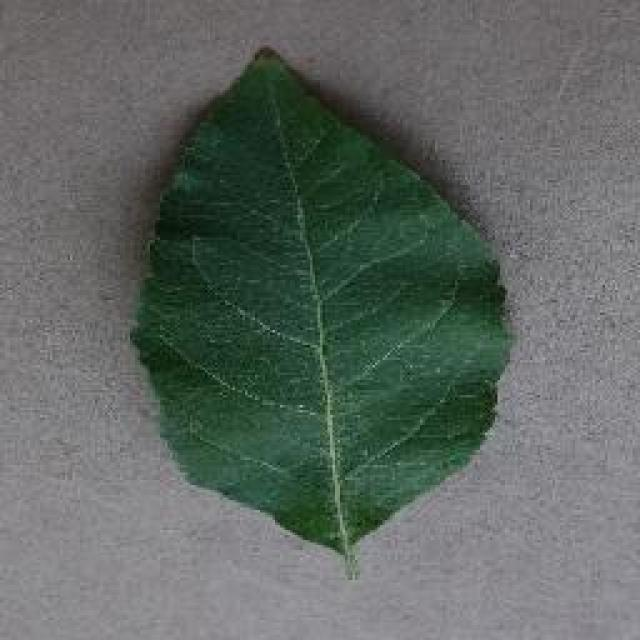apple healthy: (127, 42, 515, 578)
